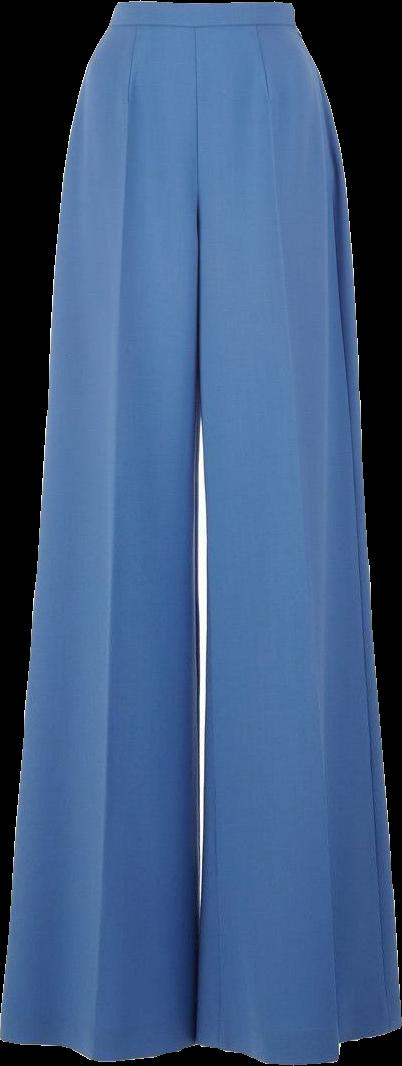Hemline: (191, 1017, 401, 1065), (0, 1028, 197, 1063)
Pantleg: (193, 0, 401, 1062), (0, 0, 207, 1060)
Waistline: (107, 18, 297, 35), (111, 0, 299, 12)
